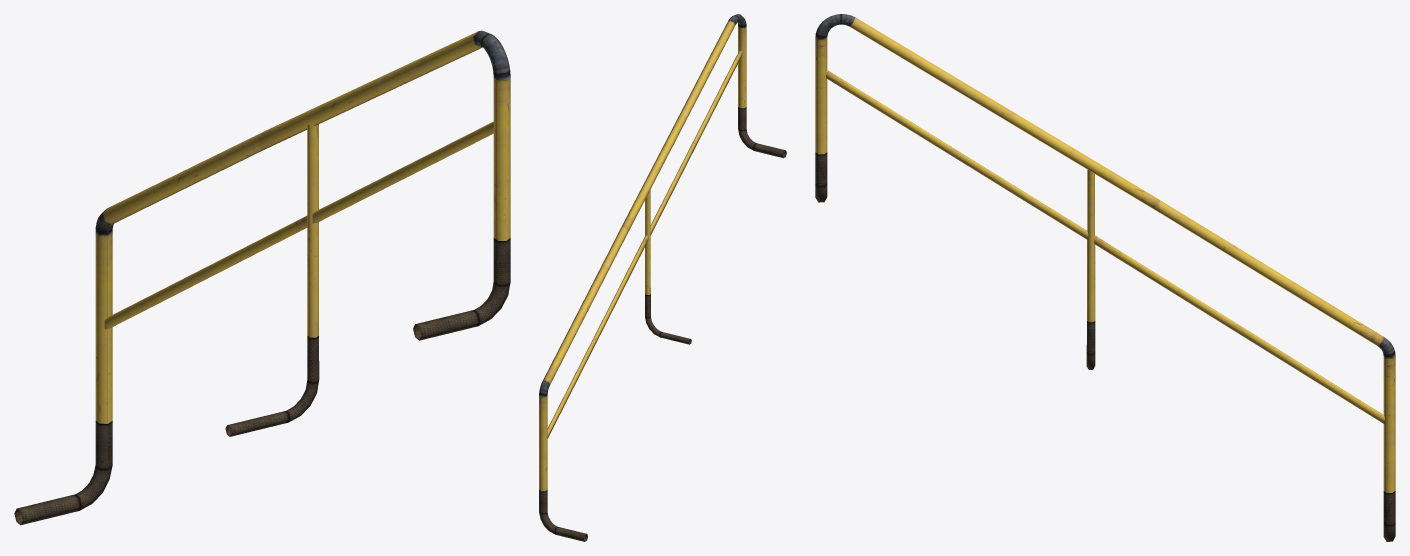
File: Railing_10.fbx
The picture shows the model from 3 angles, left to right: view 1: azimuth 30°, elevation 25°; view 2: azimuth 150°, elevation 25°; view 3: azimuth 270°, elevation 25°; orthographic projection. The views are drawn at different scales.
Visible parts, largest first — view 1: Railing_10; view 2: Railing_10; view 3: Railing_10.
Part boxes in pixels (box(x1,y1,x2,y2)): Railing_10: box(14, 30, 510, 525); Railing_10: box(539, 14, 786, 541); Railing_10: box(815, 14, 1395, 541).
Size of the model in its own units: 38.03 by 296 by 291.
1 material, 1 textured.
